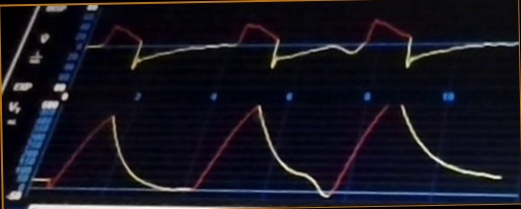Ineffective_effort Flow: (90, 12, 518, 76)
Ineffective_effort Volume: (39, 104, 500, 202)
